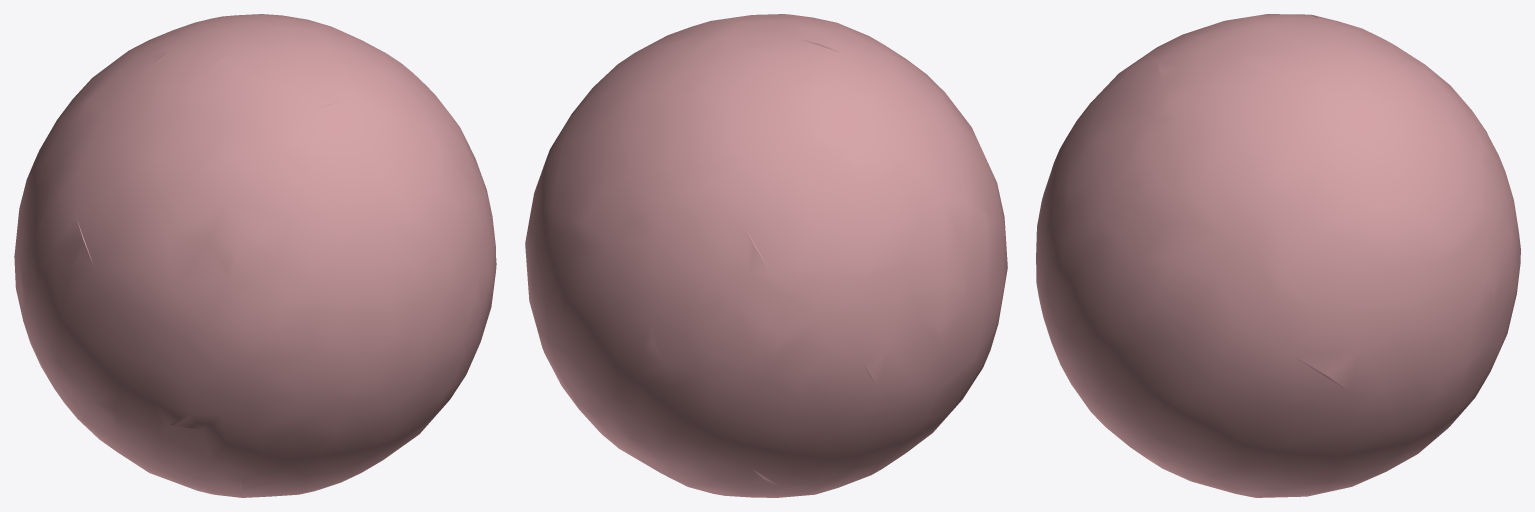
The model's file is fma276279_mm2151.glb.
3 views of the same model, side by side, from view 1: azimuth 30°, elevation 25°; view 2: azimuth 150°, elevation 25°; view 3: azimuth 270°, elevation 25° (orthographic).
Visible parts, largest first — view 1: FMA276279_MM2151; view 2: FMA276279_MM2151; view 3: FMA276279_MM2151.
Part boxes in pixels (x1,y1,x2,y2): FMA276279_MM2151: (14,14,496,497); FMA276279_MM2151: (525,14,1007,497); FMA276279_MM2151: (1036,14,1520,497).
Size of the model in its own units: 0.00298 by 0.00297 by 0.00299.
